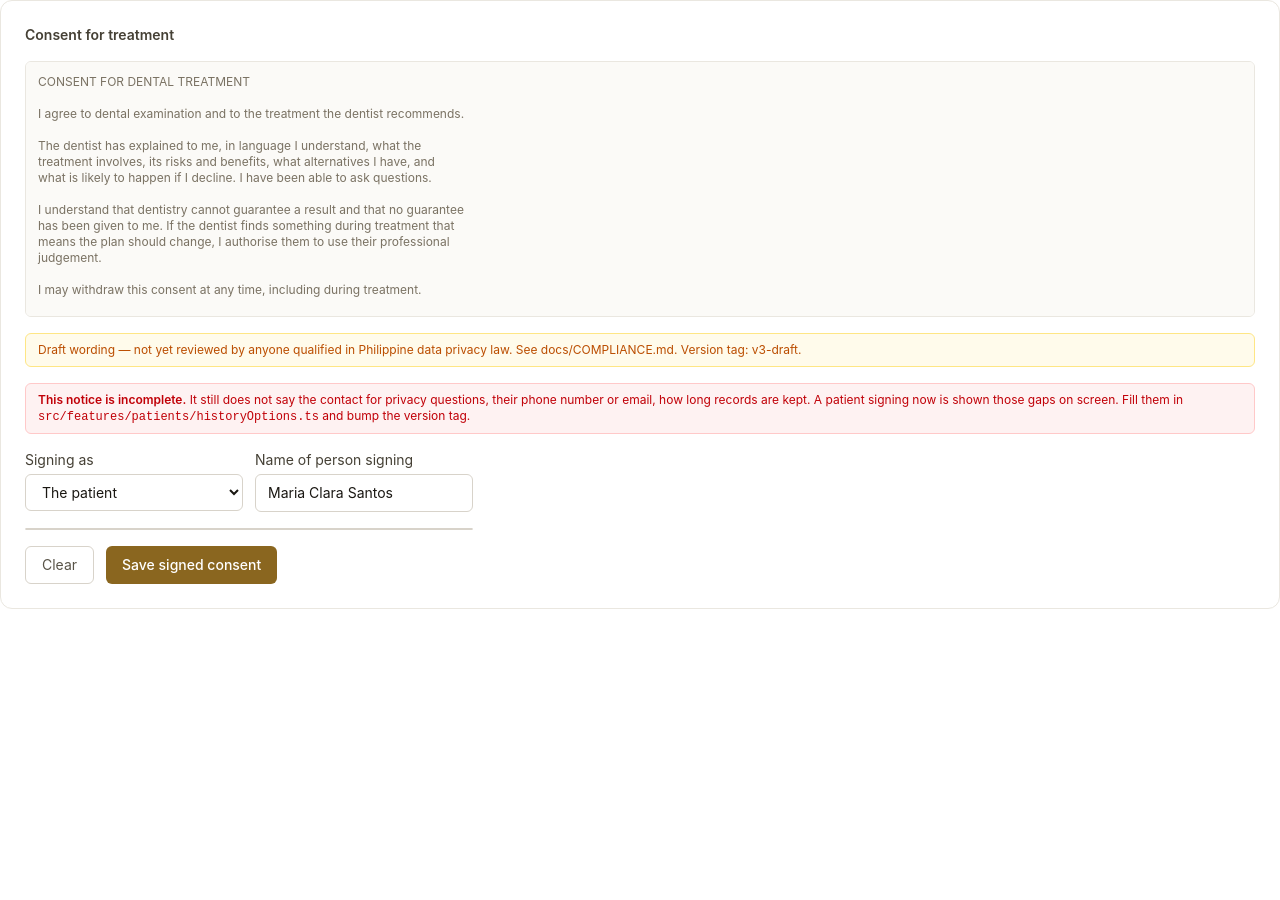
ConsentCapture › refuses to save an unsigned consent
This screenshot has width=1280, height=900.
Click the button "Save signed consent".
click(192, 565)  # box [106, 546, 277, 584]
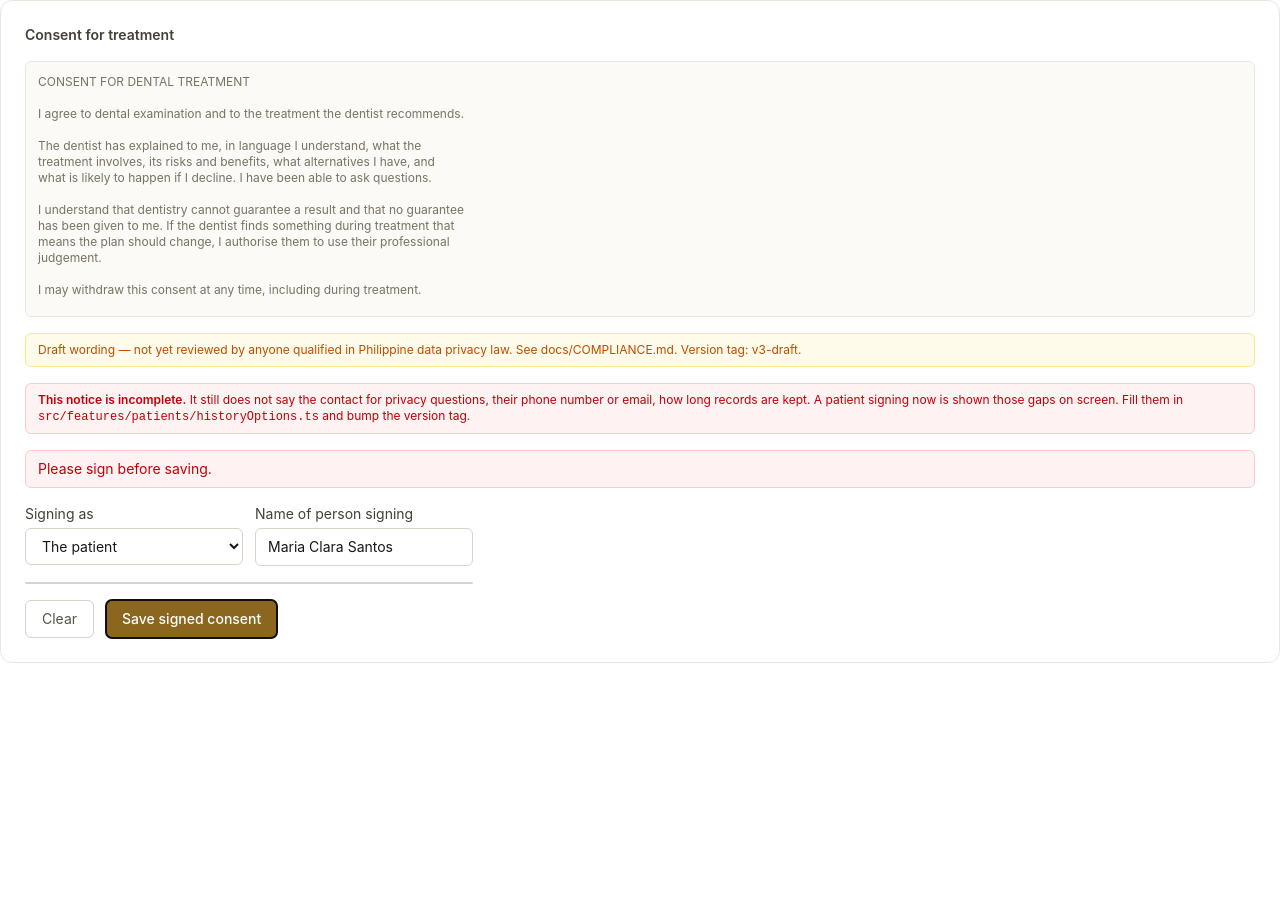
expect the message shows "Please sign before saving": met, box [38, 460, 212, 477]
